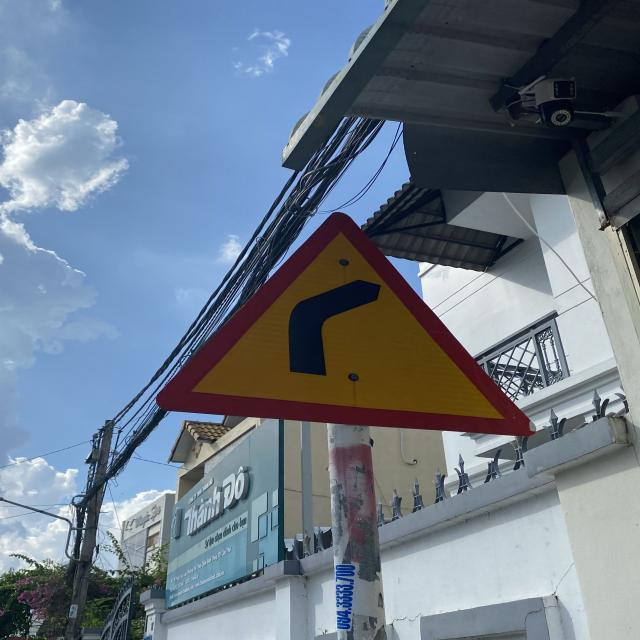Duong_Nguoi_Di_Bo_Cat_Ngang: (159, 211, 536, 440)
